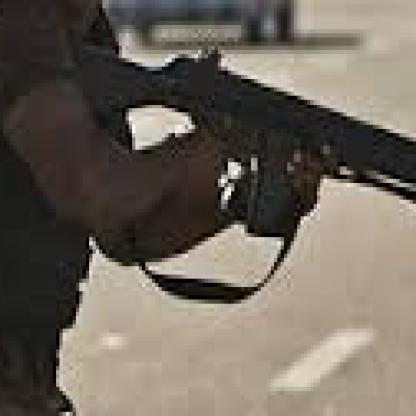gun: (0, 120, 254, 358)
